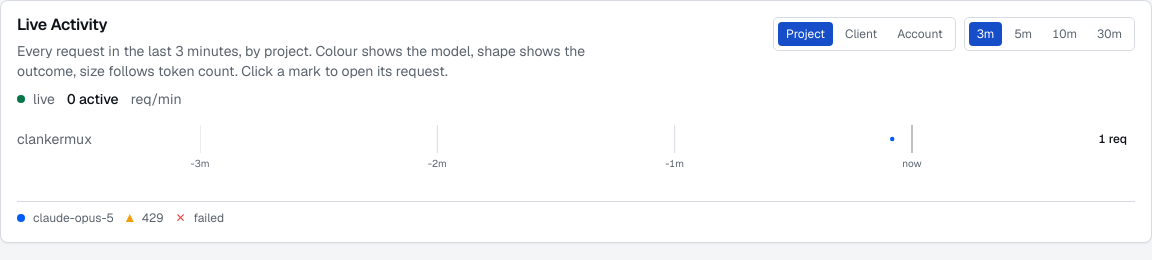
Test: Live Activity plot — mark tooltip › names the client behind the selected request
Focus the picture "now -1m -2m -3m". click: coordinates (560, 149)
box: [157,125,963,173]
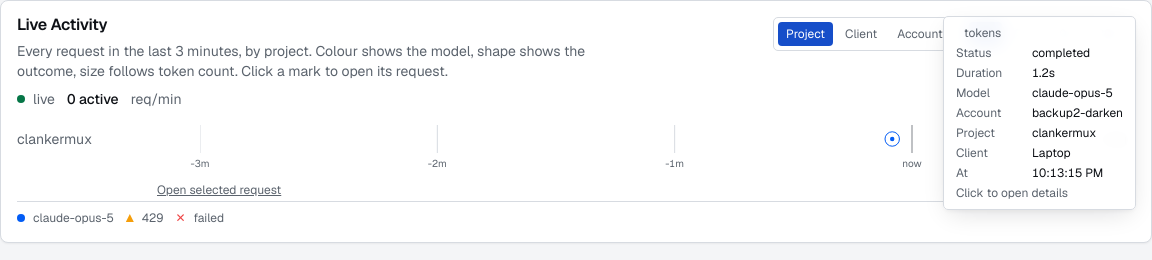
Now the message shows "Client", box [956,145,988,161]
Now the message shows "Laptop", box [1032,145,1071,161]
